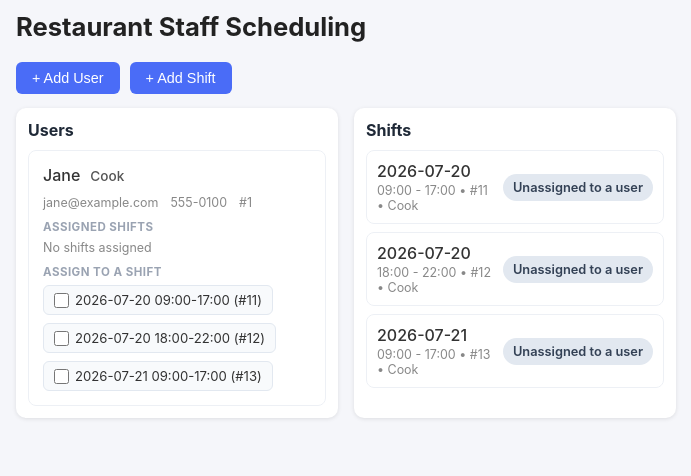
same-day shift assignment conflicts › blocks assigning a second shift on a day already assigned, but allows a different day
expect the text "Jane" is shown: met, box [43,165,80,185]
What coordinates should you click on to do the following:
click the checkbox labelled "2026-07-20 09:00-17:00 (#11)"
I would click on:
 (62, 300)
Its box is [54,292,69,308].
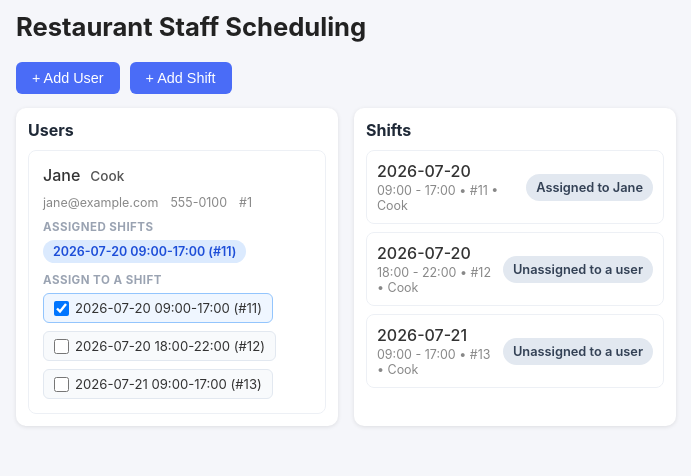
expect the checkbox labelled "2026-07-20 09:00-17:00 (#11)" is checked: met, box [54,300,69,316]
expect the text "2026-07-20 09:00-17:00 (#11)" is shown: met, box [43,240,246,263]
What coordinates should you click on to do the following:
click the checkbox labelled "2026-07-20 18:00-22:00 (#12)"
I would click on:
 (62, 346)
Its box is [54,338,69,354].
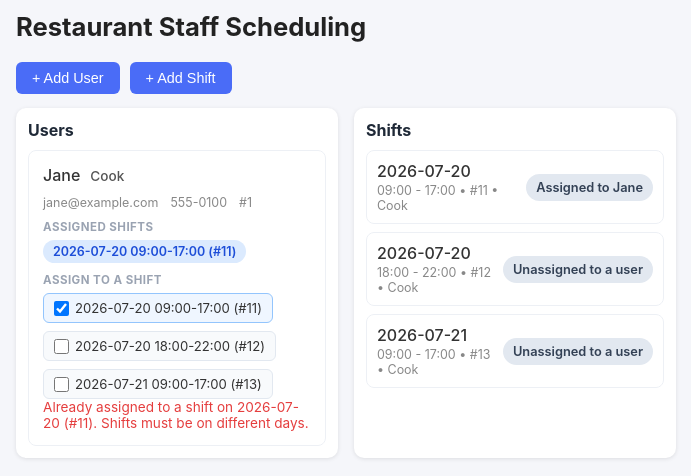
expect the text "Already assigned to a shift on 2026-07-20 (#11). Shifts must be on different days." is shown: met, box [43,399,309,431]
What coordinates should you click on to do the following:
click the checkbox labelled "2026-07-21 09:00-17:00 (#13)"
I would click on:
 (62, 384)
Its box is [54,376,69,392].
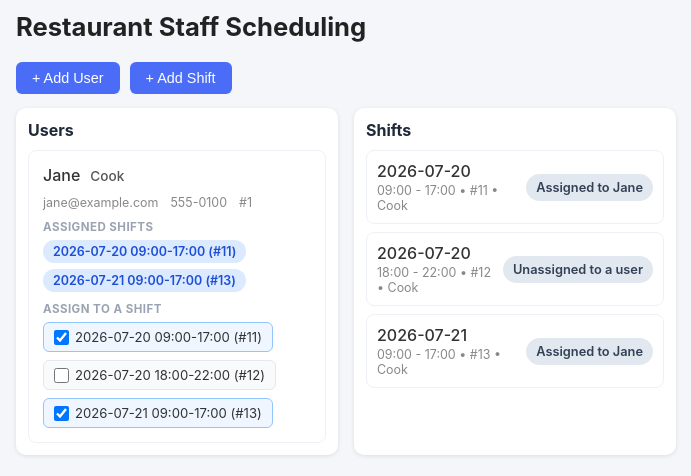
expect the checkbox labelled "2026-07-21 09:00-17:00 (#13)" is checked: met, box [54,406,69,420]
expect the text "2026-07-21 09:00-17:00 (#13)" is shown: met, box [43,269,246,292]
expect the text "Already assigned to a shift on 2026-07-20 (#11). Shifts must be on different days." is gone: met
